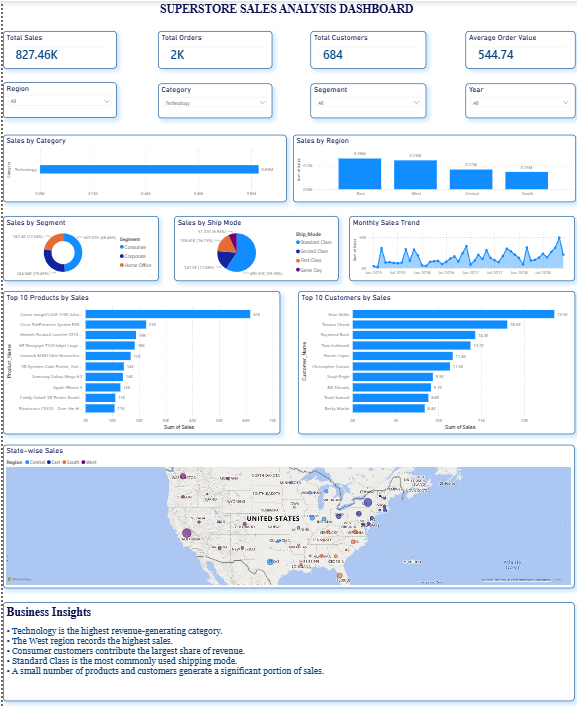

What the dashboard file says about the page in this screenshot:
{"tool":"powerbi","page":{"name":"Page 1","canvas":[1600,2000],"ordinal":0},"visuals":[{"type":"cardVisual","title":"Total Sales","fields":{"Data":["superstore_clean.Total Sales"]},"box":[0,82,314,104],"z":0},{"type":"cardVisual","title":"Total Orders","fields":{"Data":["superstore_clean.Total Orders"]},"box":[430,82,316,104],"z":1000},{"type":"cardVisual","title":"Total Customers","fields":{"Data":["superstore_clean.Total Customers"]},"box":[850,82,320,104],"z":2000},{"type":"cardVisual","title":"Average Order Value","fields":{"Data":["superstore_clean.Average Order Value"]},"box":[1278,82,304,104],"z":3000},{"type":"clusteredBarChart","title":"Sales by Category","fields":{"Category":["superstore_clean.Category"],"Y":["Sum(superstore_clean.Sales)"]},"box":[0,370,784,186],"z":4000},{"type":"clusteredColumnChart","title":"Sales by Region","fields":{"Category":["superstore_clean.Region"],"Y":["Sum(superstore_clean.Sales)"]},"box":[800,370,782,186],"z":5000},{"type":"donutChart","title":"Sales by Segment","fields":{"Category":["superstore_clean.Segment"],"Y":["Sum(superstore_clean.Sales)"]},"box":[0,594,430,180],"z":6000},{"type":"pieChart","title":"Sales by Ship Mode","fields":{"Category":["superstore_clean.Ship_Mode"],"Y":["Sum(superstore_clean.Sales)"]},"box":[472,594,454,180],"z":7000},{"type":"lineChart","title":"Monthly Sales Trend","fields":{"Y":["Sum(superstore_clean.Sales)"],"Category":["superstore_clean.Order_Date.Variation.Date Hierarchy.Year","superstore_clean.Order_Date.Variation.Date Hierarchy.Month"]},"box":[958,594,624,180],"z":8000},{"type":"clusteredBarChart","title":"Top 10 Products by Sales","fields":{"Category":["superstore_clean.Product_Name"],"Y":["Sum(superstore_clean.Sales)"]},"box":[0,802,766,396],"z":9000},{"type":"clusteredBarChart","title":"Top 10 Customers by Sales","fields":{"Category":["superstore_clean.Customer_Name"],"Y":["Sum(superstore_clean.Sales)"]},"box":[816,802,766,396],"z":10000},{"type":"map","title":"State-wise Sales","fields":{"Category":["superstore_clean.State"],"Series":["superstore_clean.Region"],"Size":["Sum(superstore_clean.Sales)"]},"box":[0,1226.7,1580,396.7],"z":11000},{"type":"slicer","title":"Region","fields":{"Values":["superstore_clean.Region"]},"box":[0,226,314,98],"z":12000},{"type":"slicer","title":"Category","fields":{"Values":["superstore_clean.Category"]},"box":[430,228,316,96],"z":13000},{"type":"slicer","title":"Segement","fields":{"Values":["superstore_clean.Segment"]},"box":[850,228,320,96],"z":14000},{"type":"slicer","title":"Year","fields":{"Values":["DateTable.Year"]},"box":[1278,228,304,96],"z":15000},{"type":"textbox","box":[41.7,0,1485,58.3],"z":16000},{"type":"textbox","box":[0,1663.3,1580,273.3],"z":17000}]}

Visuals, with their boxes in screenshot pixels (x1, y1, x2, y2), scaled from the page's 1600x2000 canvas onto the 577x707 screenshot:
"Total Sales" cardVisual: (0,29,113,66)
"Total Orders" cardVisual: (155,29,269,66)
"Total Customers" cardVisual: (307,29,422,66)
"Average Order Value" cardVisual: (461,29,571,66)
"Sales by Category" clusteredBarChart: (0,131,283,197)
"Sales by Region" clusteredColumnChart: (288,131,571,197)
"Sales by Segment" donutChart: (0,210,155,274)
"Sales by Ship Mode" pieChart: (170,210,334,274)
"Monthly Sales Trend" lineChart: (345,210,571,274)
"Top 10 Products by Sales" clusteredBarChart: (0,284,276,423)
"Top 10 Customers by Sales" clusteredBarChart: (294,284,571,423)
"State-wise Sales" map: (0,434,570,574)
"Region" slicer: (0,80,113,115)
"Category" slicer: (155,81,269,115)
"Segement" slicer: (307,81,422,115)
"Year" slicer: (461,81,571,115)
textbox: (15,0,551,21)
textbox: (0,588,570,685)
